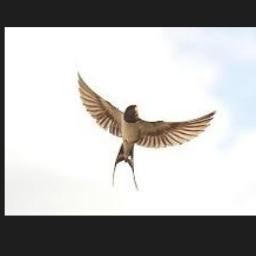Swallow: (76, 71, 215, 191)
